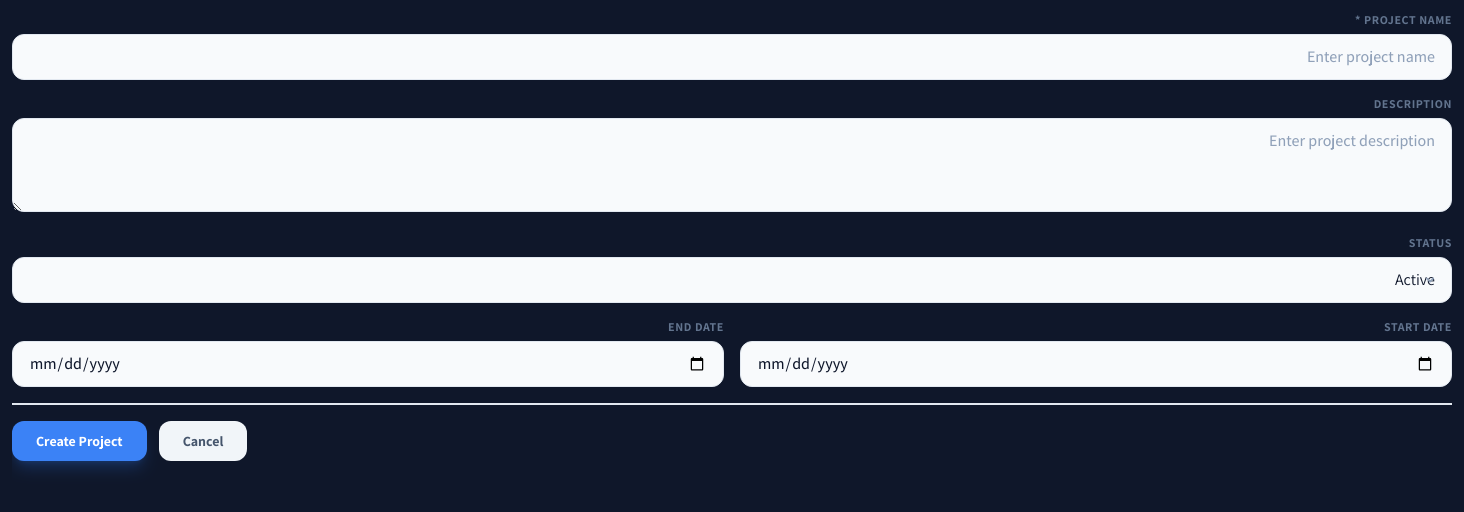
ProjectForm › validation › clears error when field is corrected
Note: Trigger error
Click the button "Create Project" at (79, 441), box [12,421,147,461]
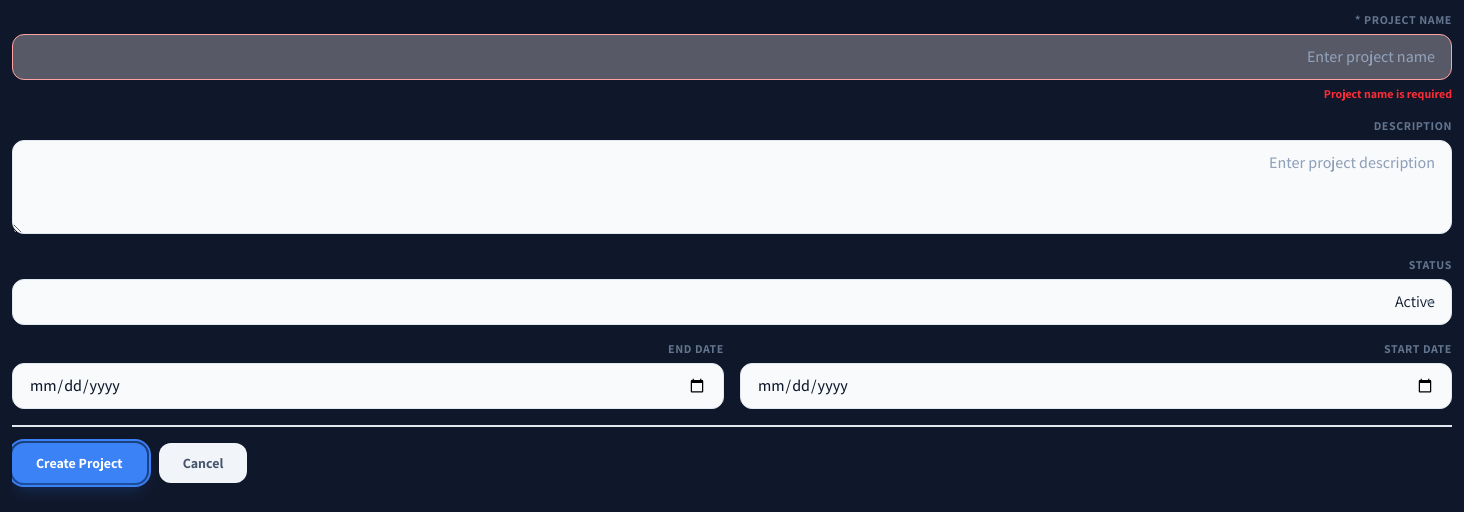
Now the text "Project name is required" is shown, box [1324,86,1452,101]
Note: Fix error
Type "Project" into the field labelled "Project Name *" at (732, 57), box [12,34,1452,80]
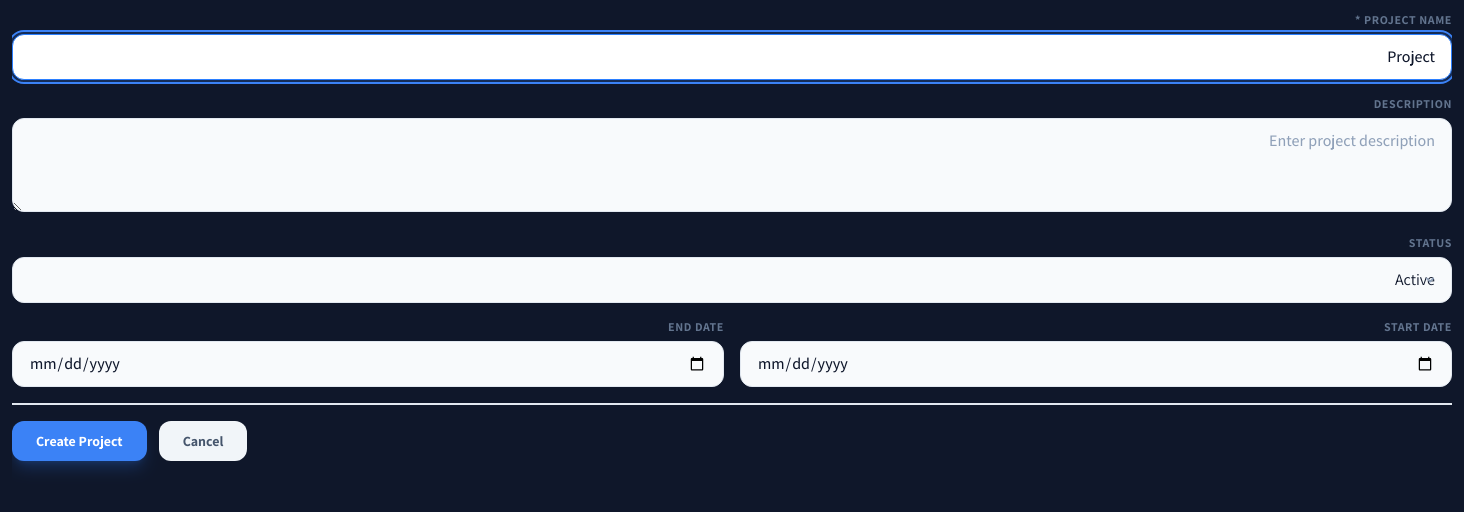
Now the text "Project name is required" is gone
